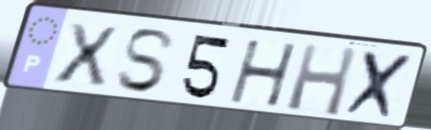5: (179, 32, 232, 101)
H: (283, 41, 361, 120), (227, 38, 301, 110)
S: (113, 27, 179, 96)
X: (340, 48, 420, 123), (50, 20, 121, 88)
